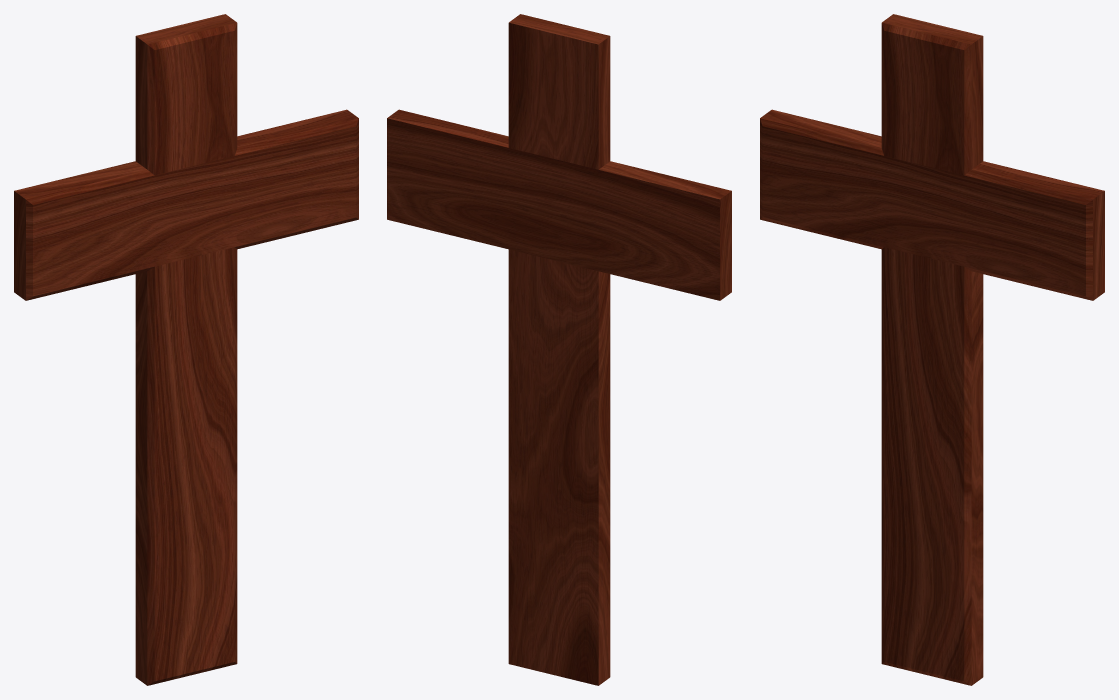
The model's file is Cross.fbx.
3 renders of one model, left to right at view 1: azimuth 30°, elevation 25°; view 2: azimuth 150°, elevation 25°; view 3: azimuth 330°, elevation 25°, orthographic.
Parts seen in each view (by area): view 1: Cross; view 2: Cross; view 3: Cross.
Boxes of the visible parts, x1,y1,x2,y2 form: Cross: [14, 14, 358, 685]; Cross: [387, 14, 731, 685]; Cross: [760, 14, 1104, 685].
Bounding box in the file's own units: 32.09 × 59.06 × 2.36.
Materials: 1 (1 with a texture image).
